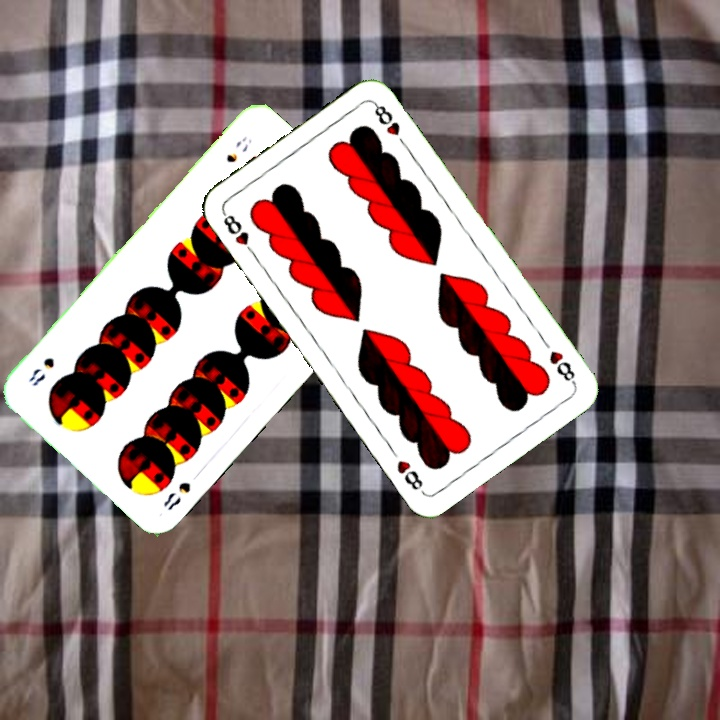H8: (218, 208, 259, 259), (545, 346, 579, 387)
S8: (159, 477, 194, 513), (222, 132, 255, 166)
